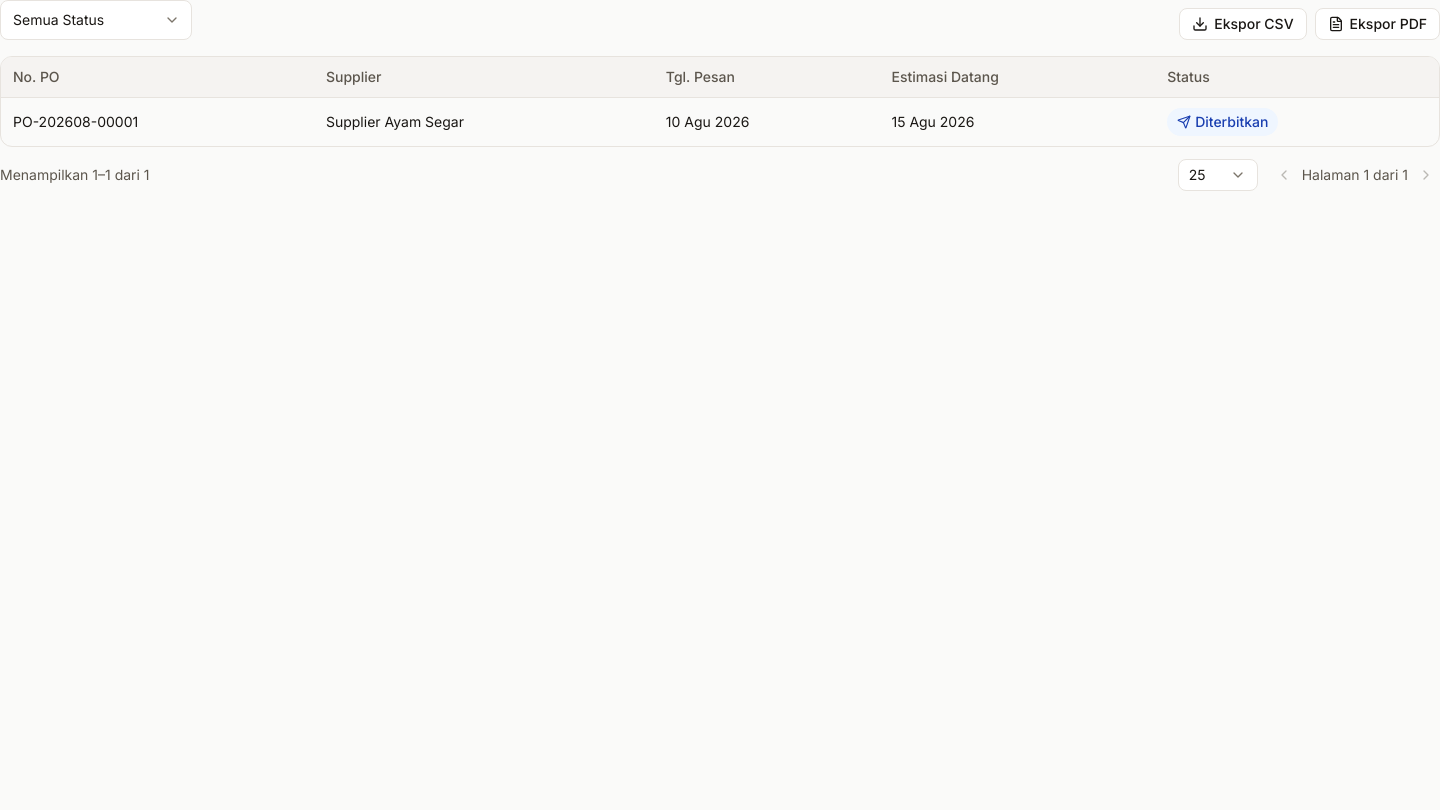
it: PurchaseOrdersPanel — status ladder + D-20 price lock › a leader_outlet-shaped session (po.receive, no supplier.price.read) never sees price, but CAN still open Terima Barang
The image size is (1440, 810).
Click the text "PO-202608-00001" at (76, 122), box [1,98,314,146]
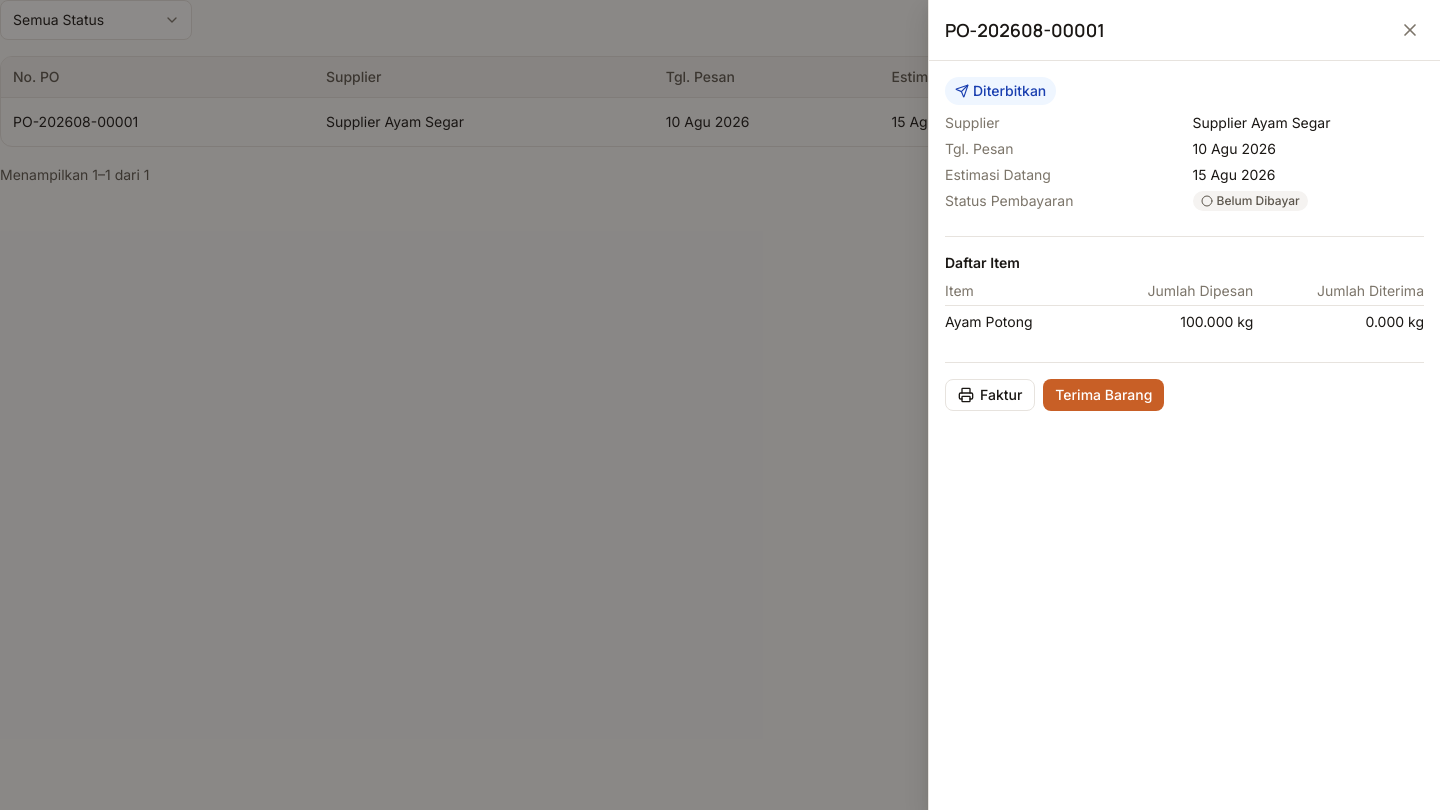
Check: the button "Terima Barang" is shown, box [1043,379,1164,411]
